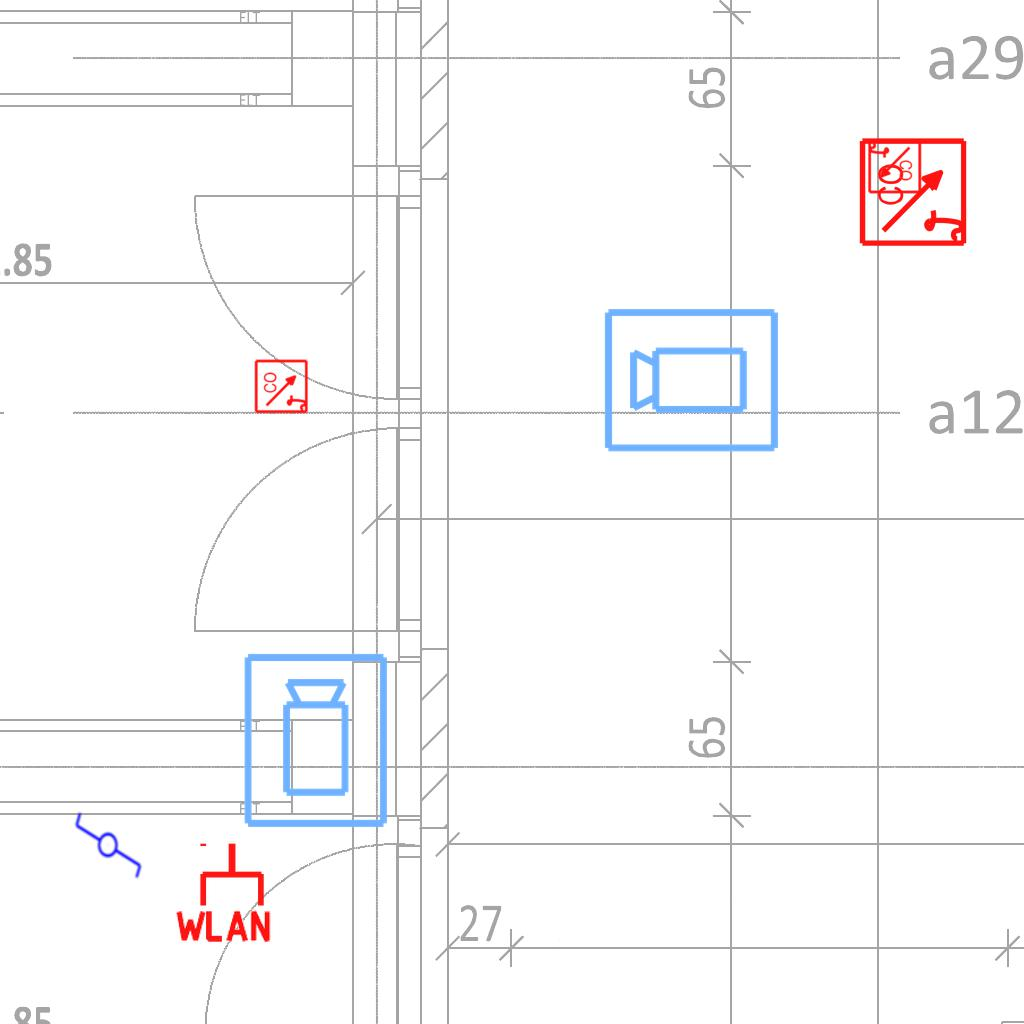KFO_Kamera_mit_Festobjektiv: (240, 650, 394, 832), (601, 302, 783, 456)
ROA_Rauchmelder_optisch_mit_Signalgeber_(Sockelsirene): (858, 135, 971, 248), (254, 358, 310, 414), (866, 139, 922, 195)
WLAN: (171, 839, 275, 944)
Wechselschalter: (73, 802, 145, 880)
